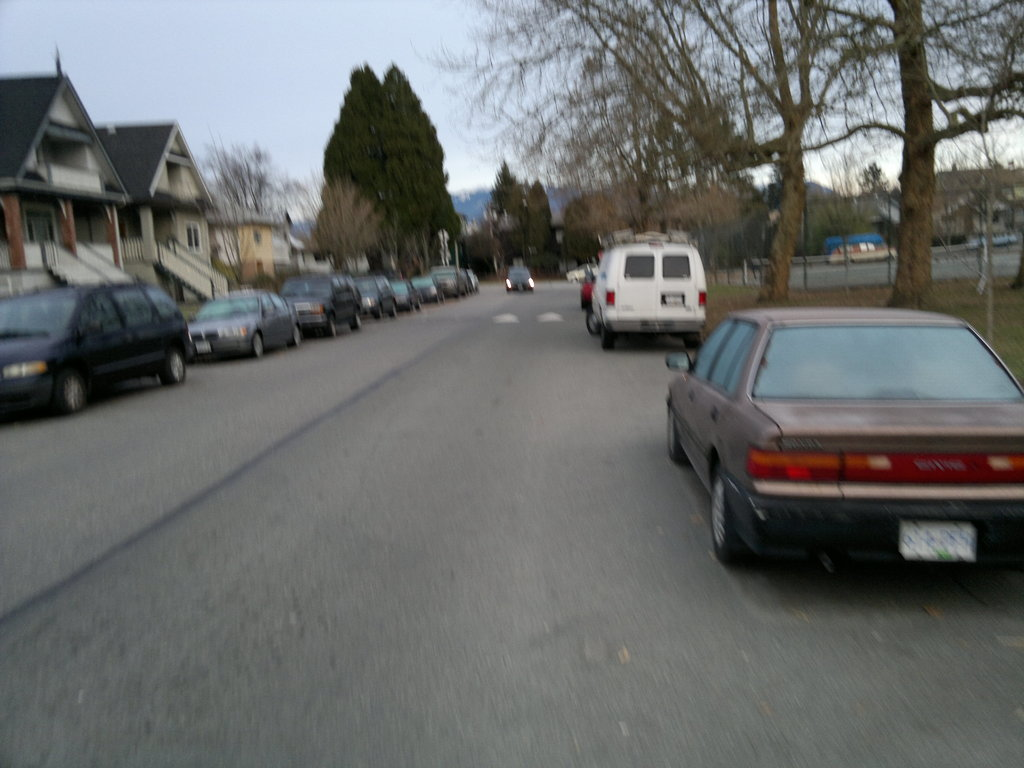license plate: (899, 518, 972, 561)
